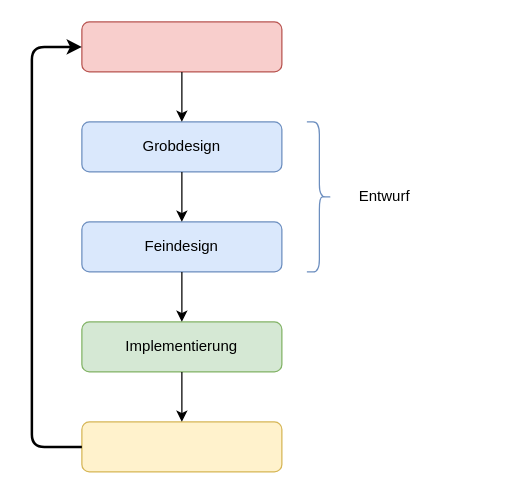
Some shapes in this 528 by 494 pixel diagram are drawn without their labels. Here are the shapes that lost their labels. From the top down, the centre of each, then its label:
At point 181,46: "Anforderungsanalyse".
At point 181,446: "Test & Integration".
